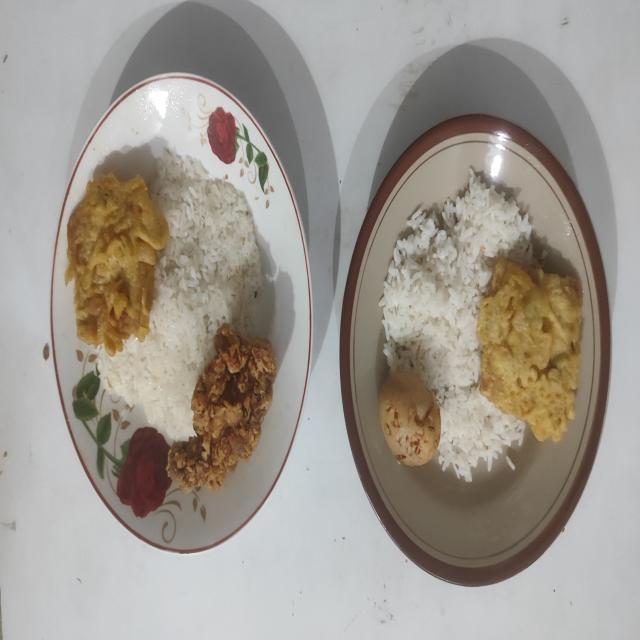nasi_putih: (99, 150, 264, 444), (379, 178, 531, 481)
